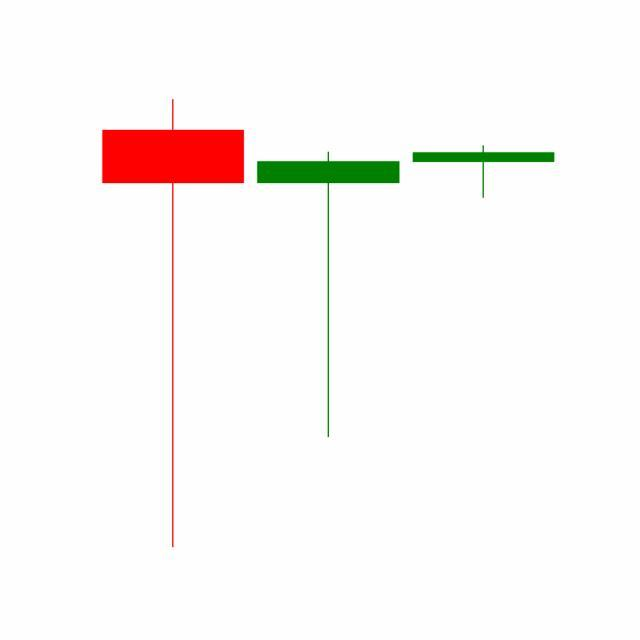Hanging Man: (406, 144, 562, 199)
